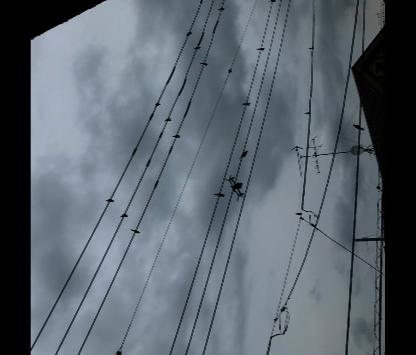Tornado: (222, 173, 244, 201)
